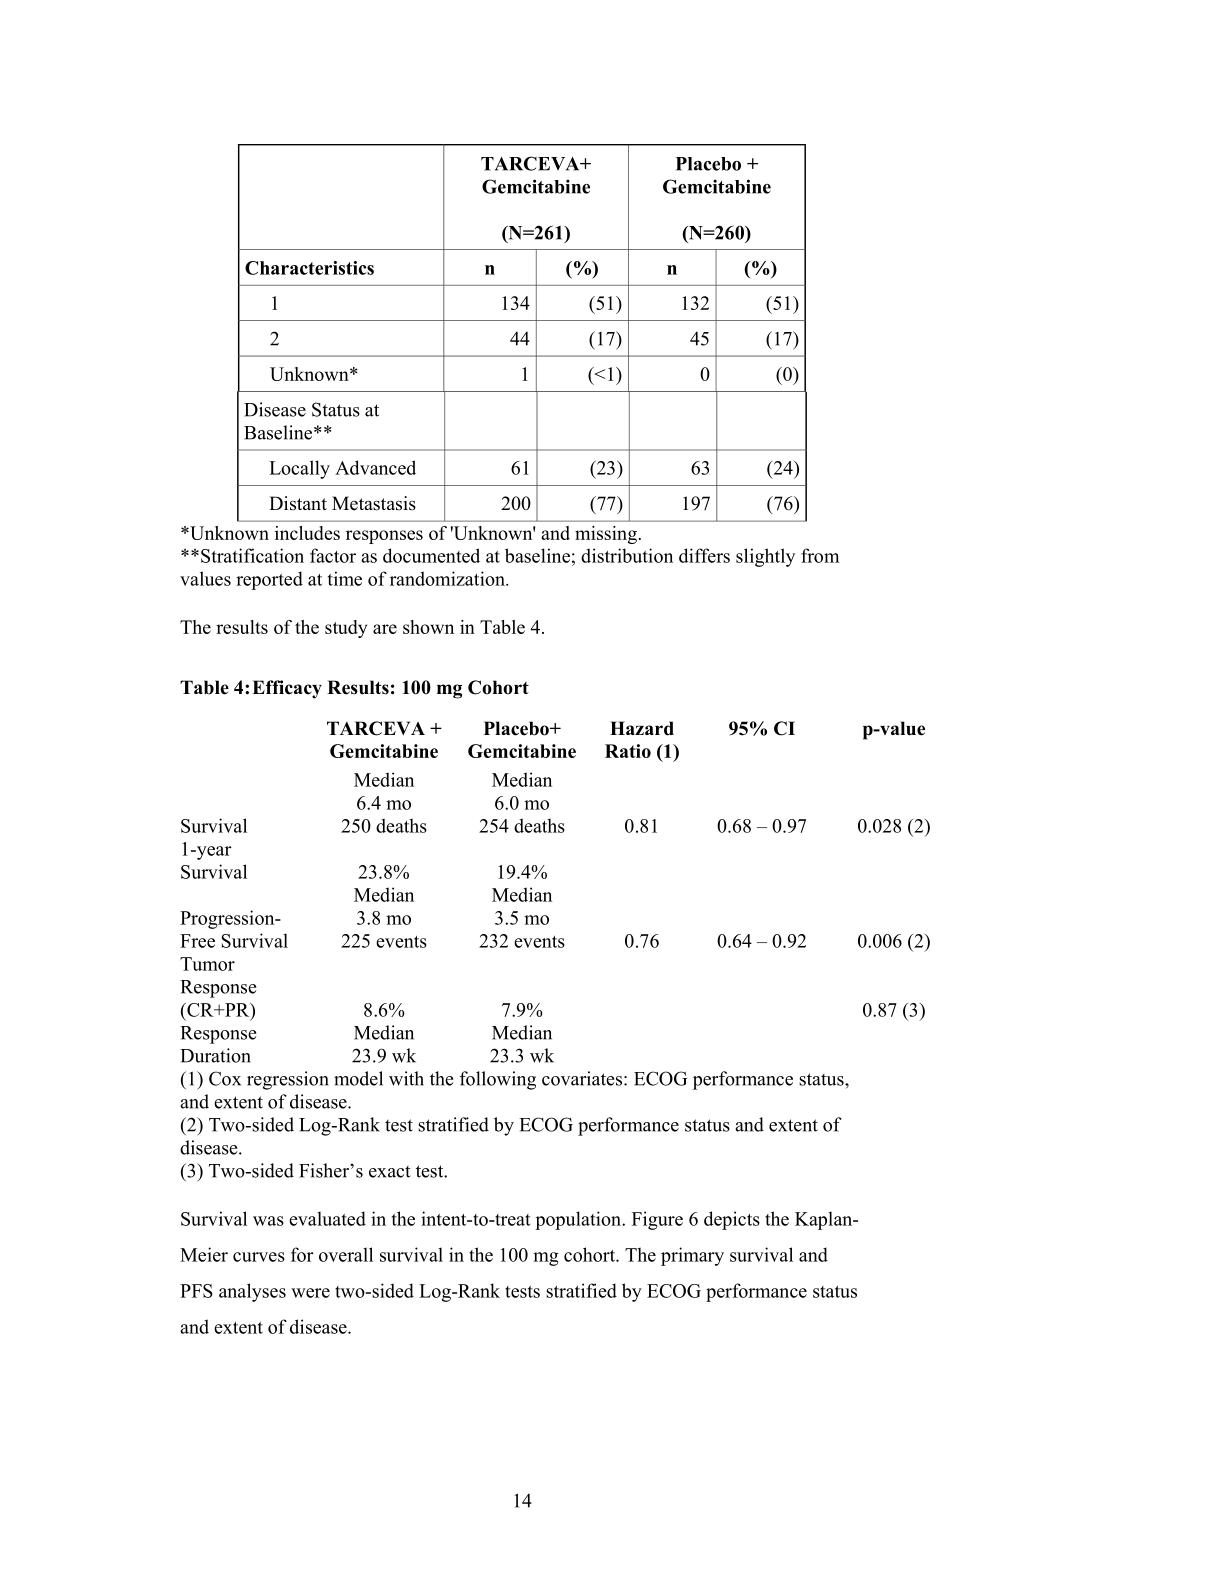merged_cells: (237, 144, 806, 523)
nolines: (177, 716, 936, 1067)
